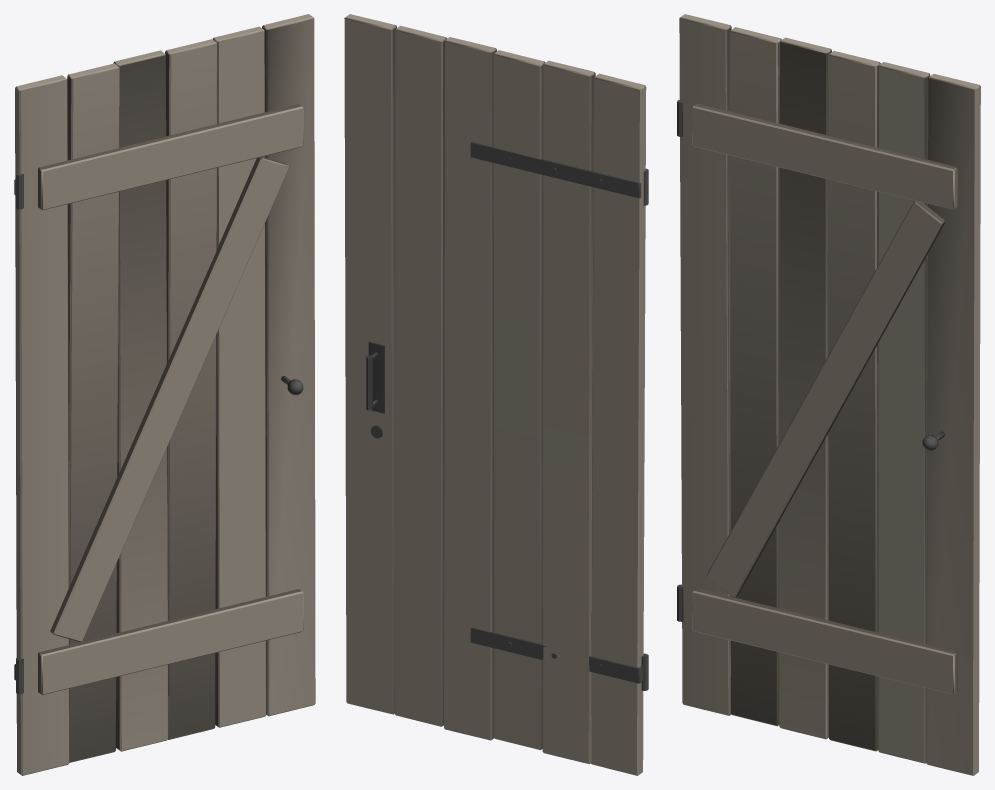
Rendered from door_leaf.glb.
3 views of the same model, side by side, from view 1: azimuth 30°, elevation 25°; view 2: azimuth 150°, elevation 25°; view 3: azimuth 330°, elevation 25° (orthographic).
Visible parts, largest first — view 1: static; view 2: static; view 3: static.
Boxes of the visible parts, x1,y1,x2,y2 form: static: (14, 14, 315, 775); static: (344, 14, 648, 775); static: (677, 14, 980, 775).
Size of the model in its own units: 0.9215 by 2.03 by 0.166.
